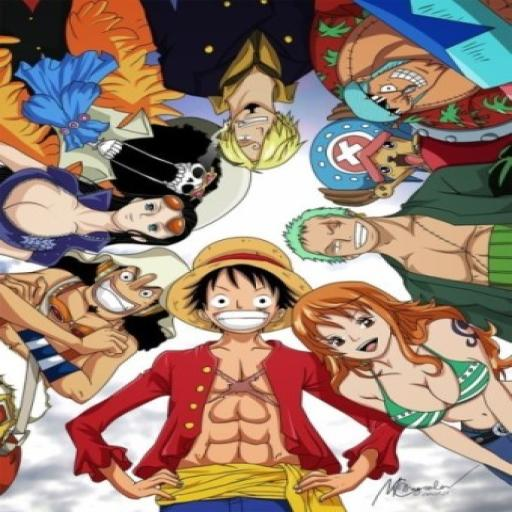Luffy: (160, 234, 330, 338)
Nami: (280, 275, 446, 367)
NicoRobin: (72, 190, 230, 248)
Usopp: (76, 239, 208, 328)
Zoro: (269, 200, 402, 266)
sanji: (194, 92, 320, 178)
